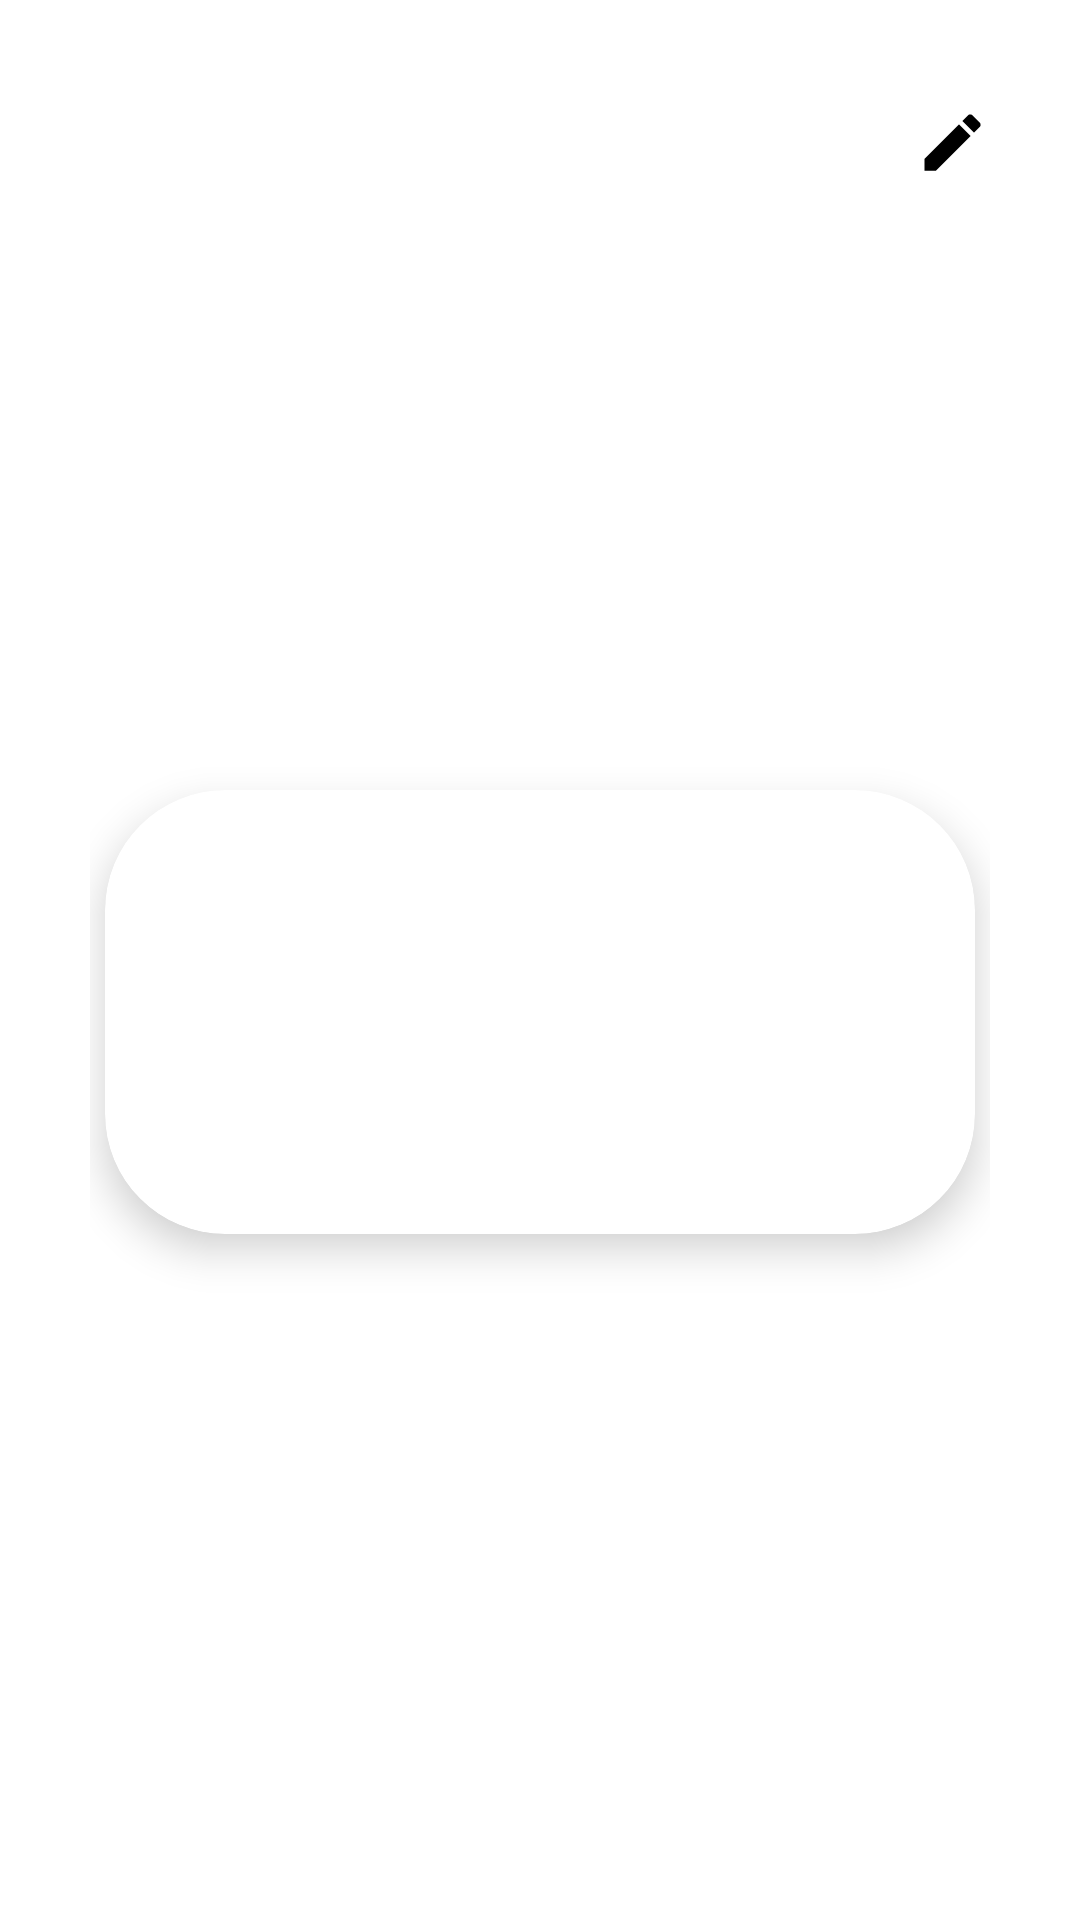

Icon bounding boxes for this 1080px×1920px phone screenshot, format (x1, y1, x2, y2):
edit: (924, 114, 981, 171)
